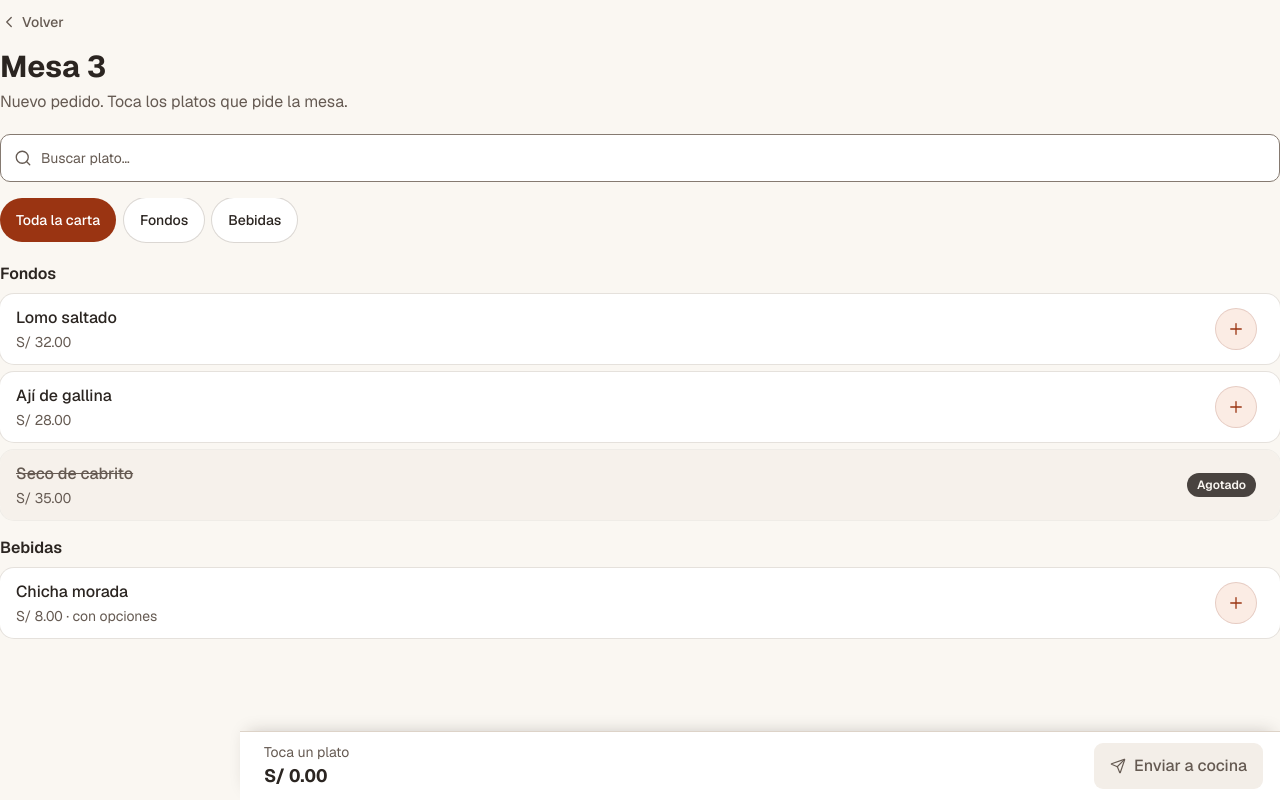
Test: tomar un pedido en una mesa › en el resumen se anota para la cocina y se ajusta la cantidad
The image size is (1280, 800).
Click the button "Lomo saltado S/ 32.00": [66, 317] box [0,294,1272,364]
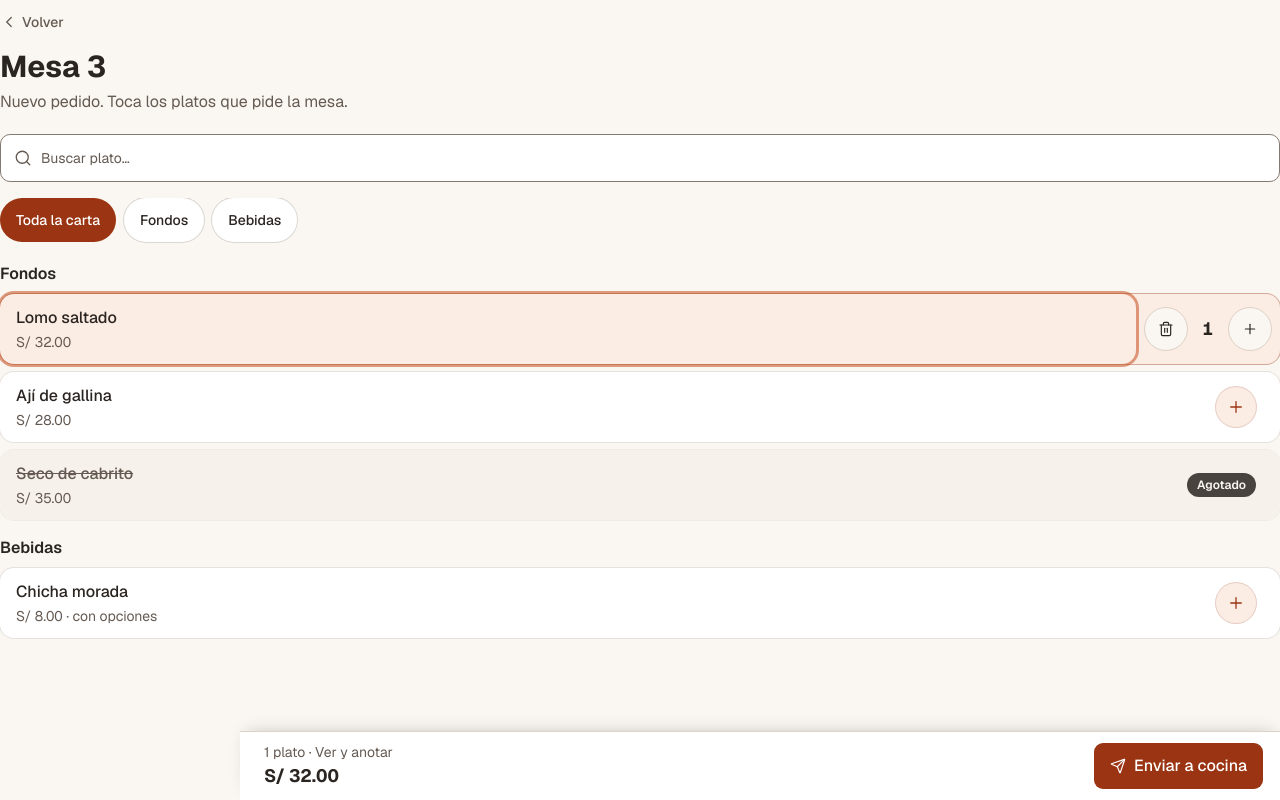
Click the button "1 plato · Ver y anotar S/ 32.00": [328, 752] box [256,742,1081,790]
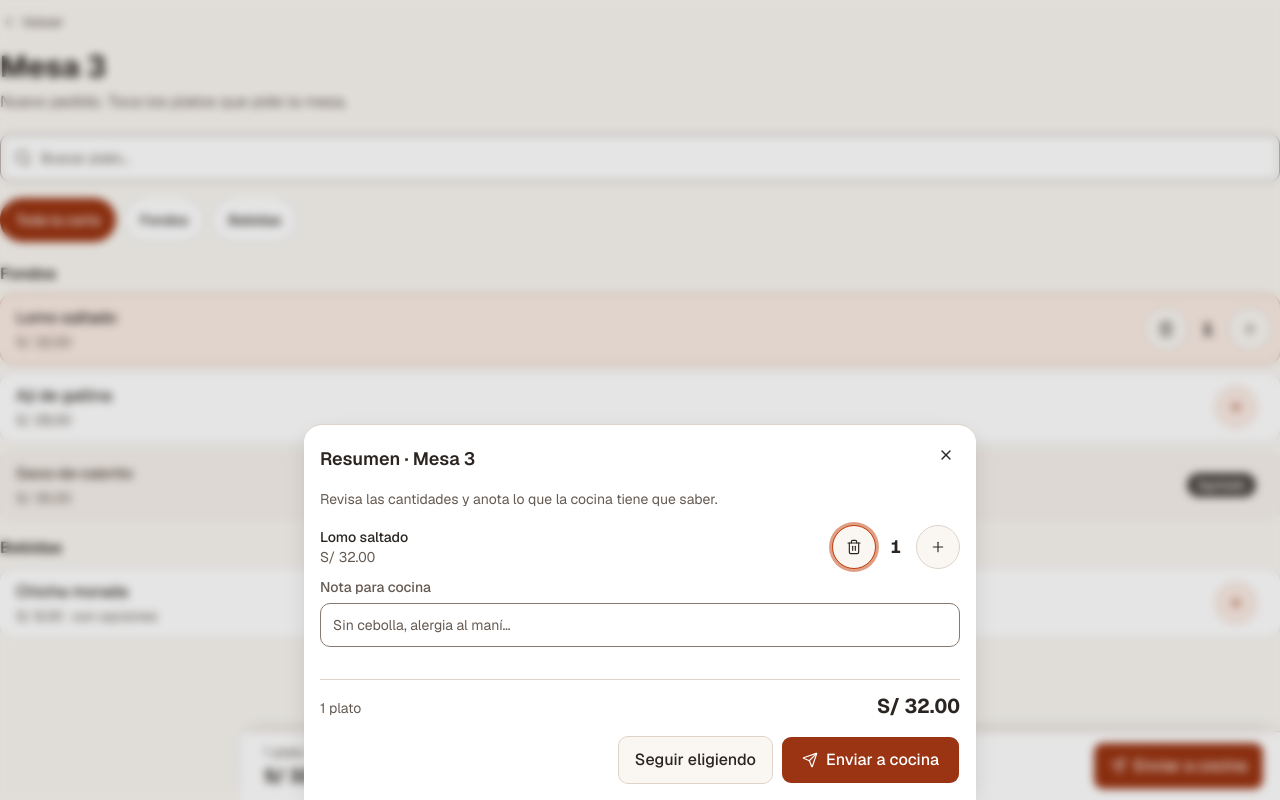
In the field labelled "Nota para cocina": [640, 625] box [320,603,960,647], type "sin cebolla"
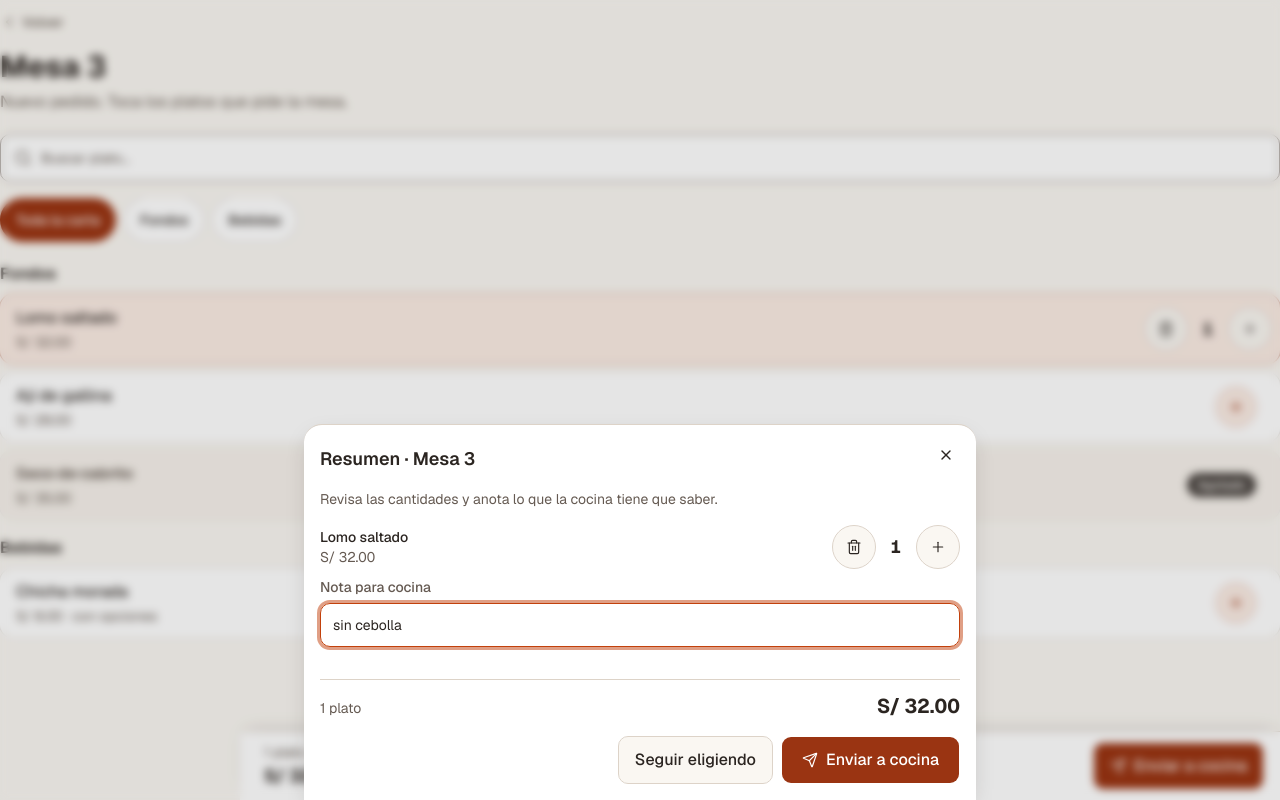
Click the button named "Uno más de Lomo saltado": [938, 547] box [916,525,960,569]
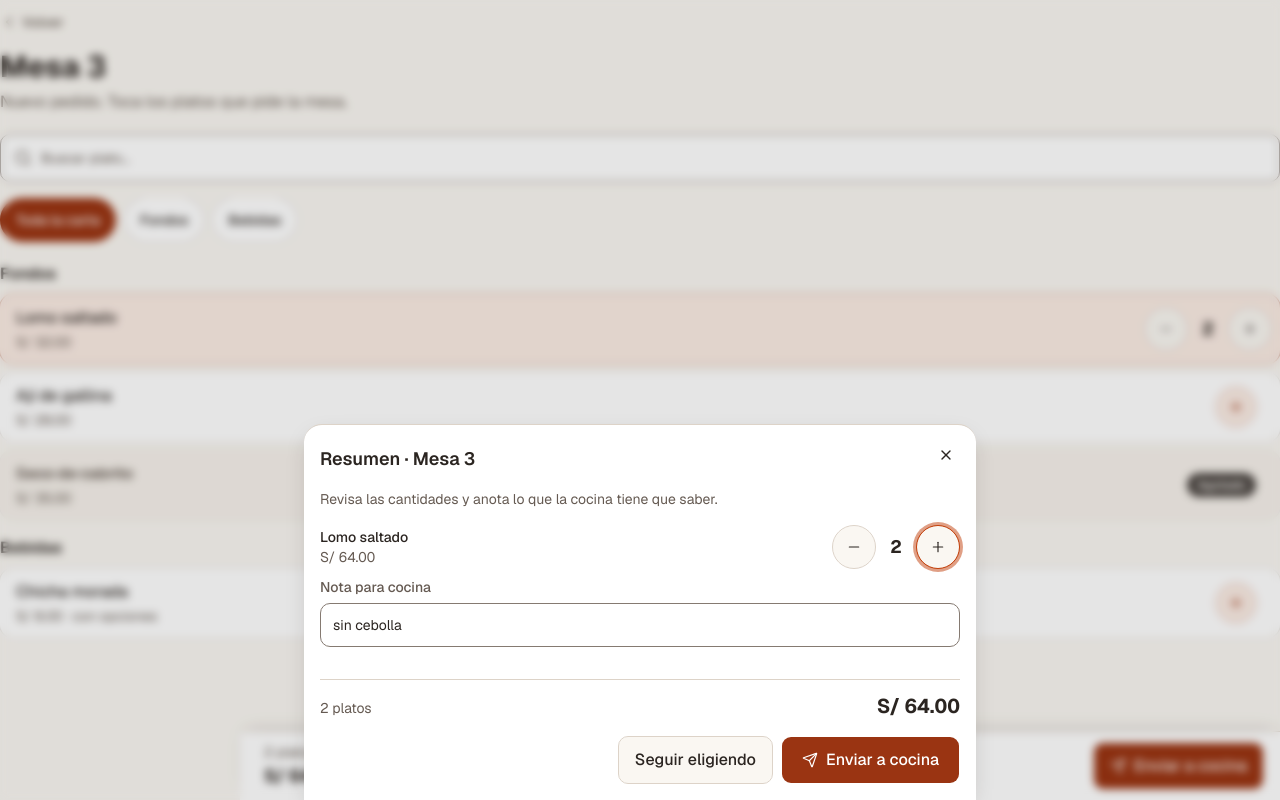
Now the text "2 platos" is shown, box [320,698,372,718]
Click the button "Enviar a cocina": [870, 760] box [781,736,960,784]
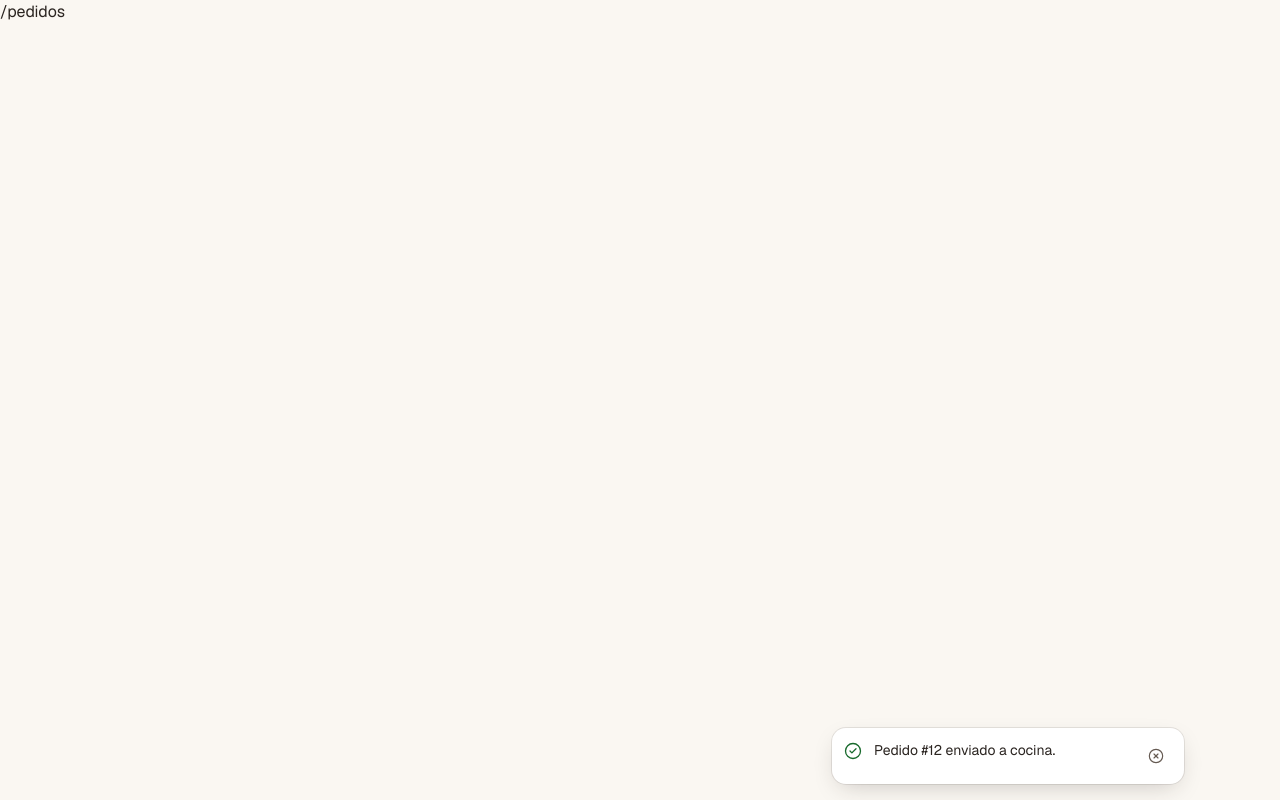
Now the text "Pedido #12 enviado a cocina." is shown, box [874,741,1055,759]
